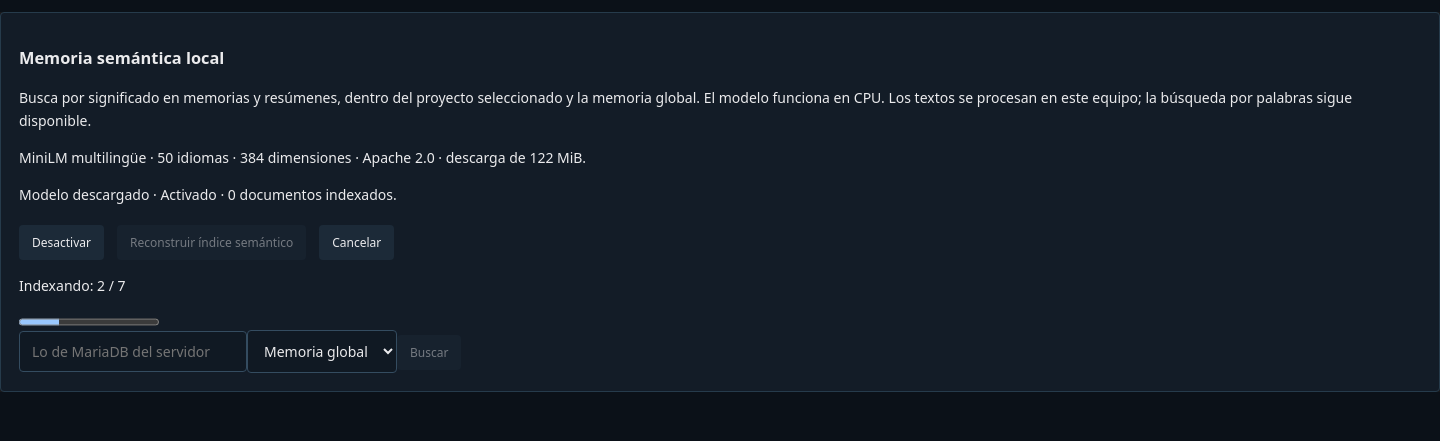
Scenario: progress can be cancelled and inference failures remain visible with lexical fallback
This screenshot has width=1440, height=441.
Expected: the text "Indexando: 2 / 7" is shown, [19,276,126,295]
Click the button "Cancelar" at (357, 243), box [319,225,394,260]
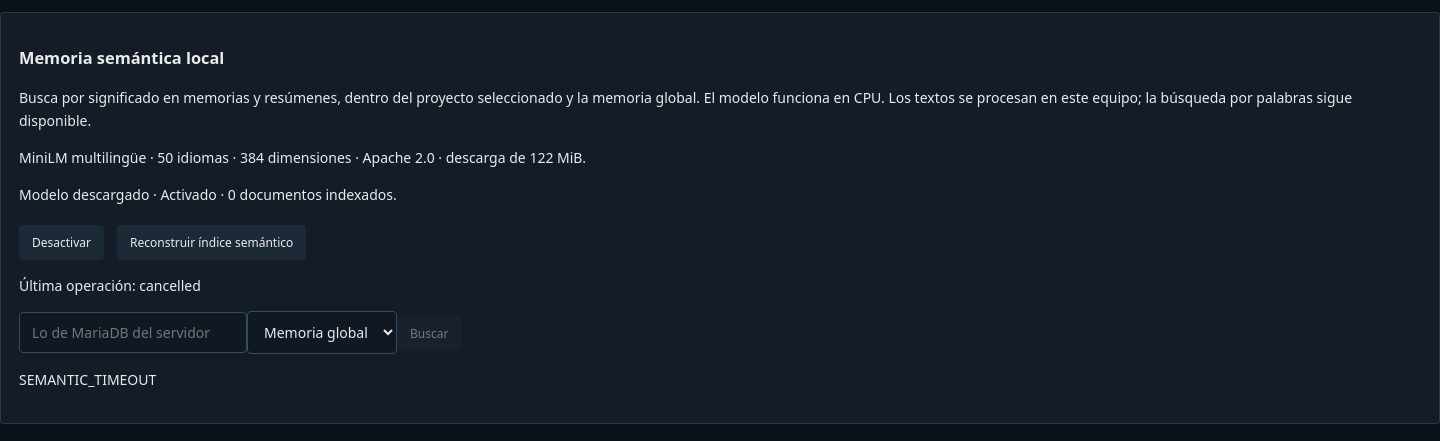
Expected: the text "búsqueda por palabras sigue disponible" is shown, [19,88,1352,130]
Expected: the message "SEMANTIC_TIMEOUT" is shown, [19,370,156,389]
